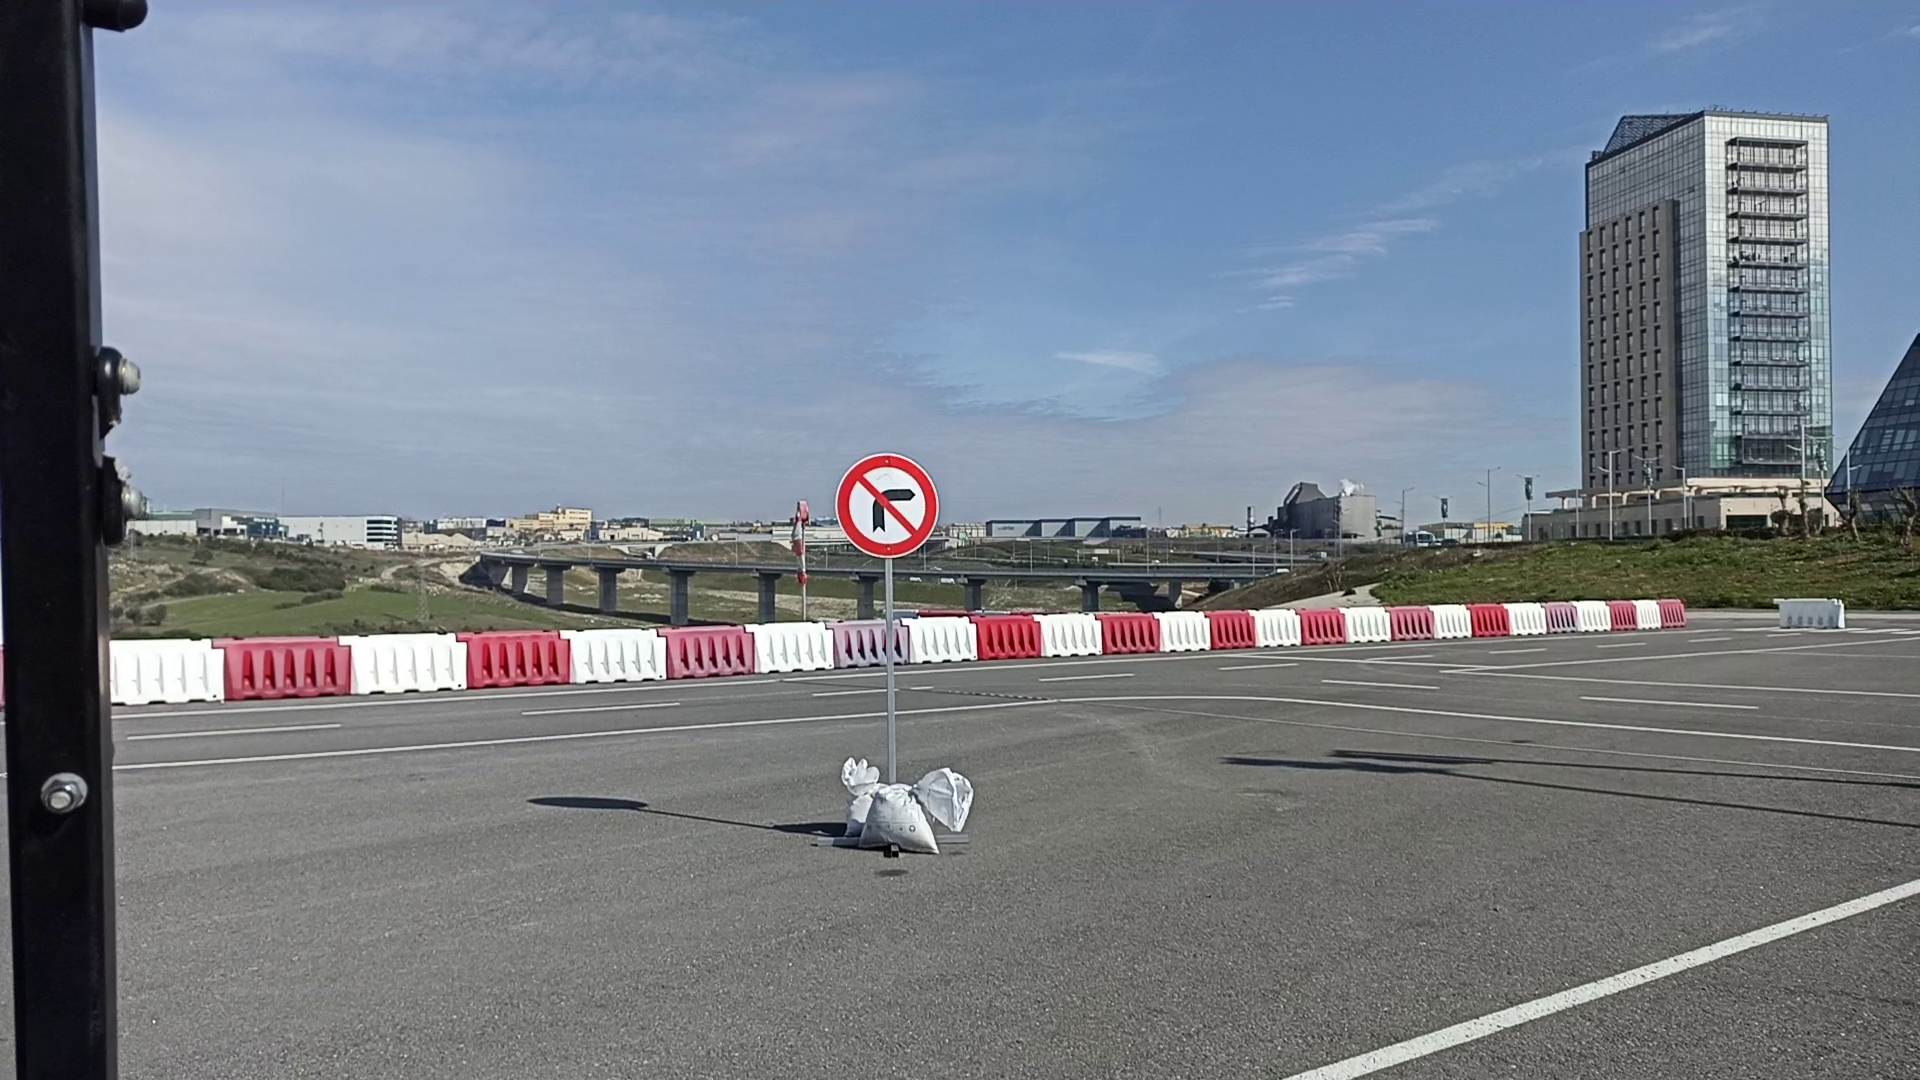noleftturn: (831, 451, 942, 562)
